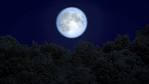moon: (55, 7, 88, 38)
